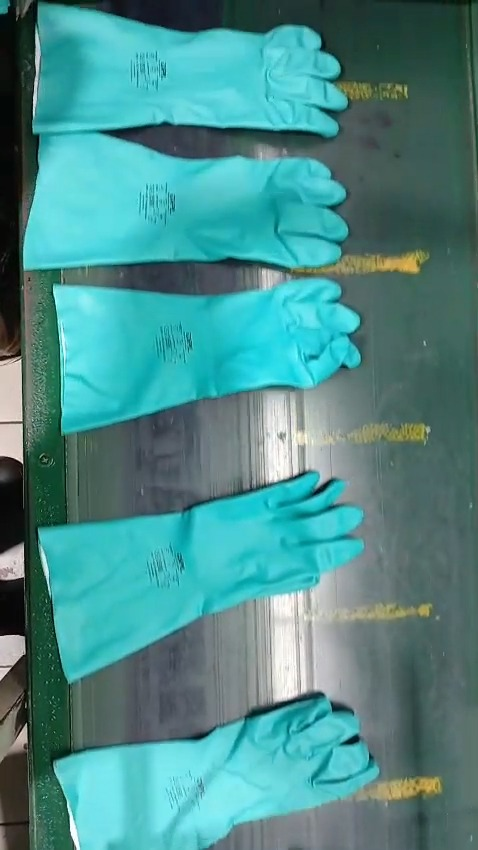glove: (39, 471, 361, 681), (50, 692, 377, 850), (52, 279, 365, 434), (31, 132, 355, 272), (38, 7, 343, 137)
